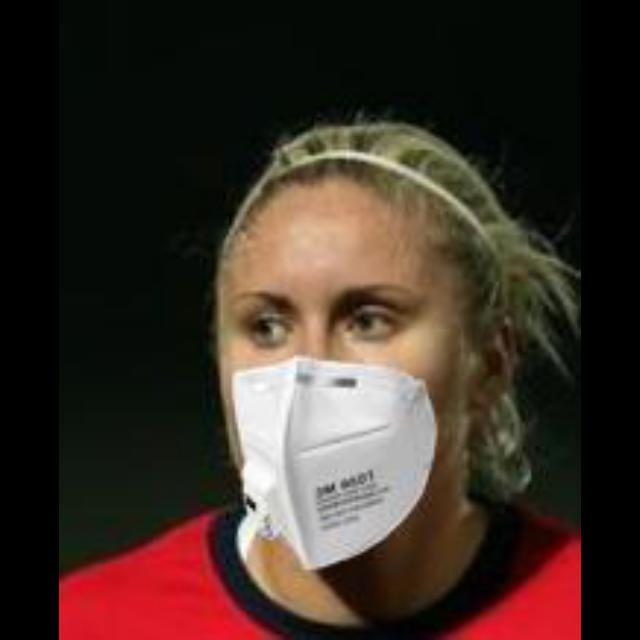suspicion: (216, 149, 504, 557)
